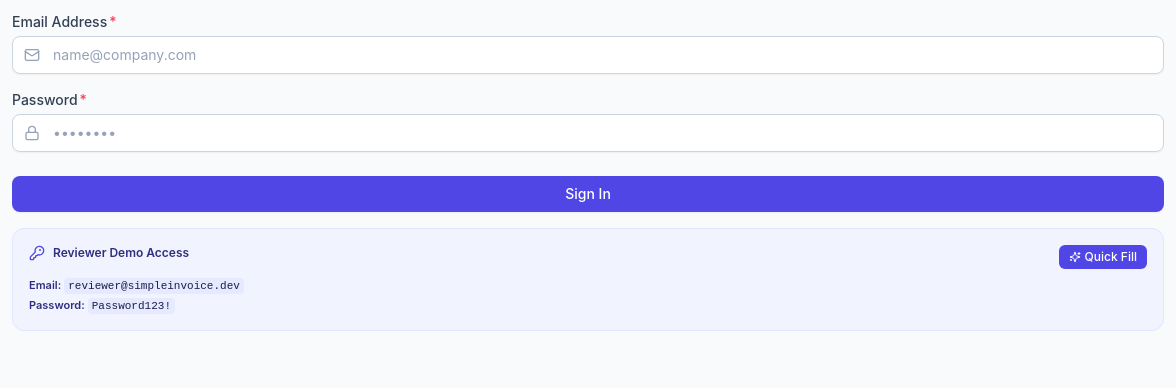
Test case: LoginForm Component › validates empty inputs and displays inline error messages
Click the button "Sign In" at (588, 194), box [12,176,1164,212]
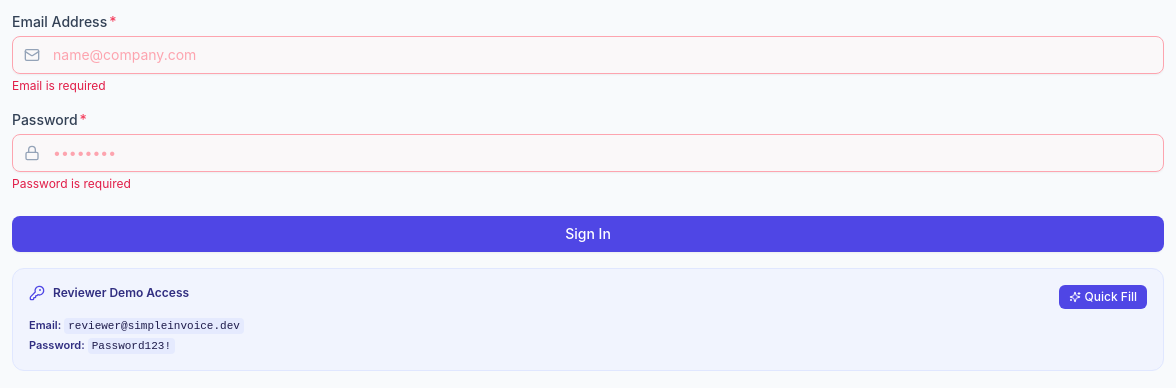
Result: the text "Email is required" is shown at [12,78,106,93]
Result: the text "Password is required" is shown at [12,176,131,191]
